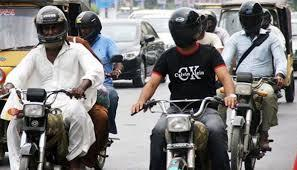helmet: (34, 5, 68, 48), (168, 8, 202, 49), (238, 0, 264, 34), (75, 11, 102, 42), (201, 10, 218, 33)
